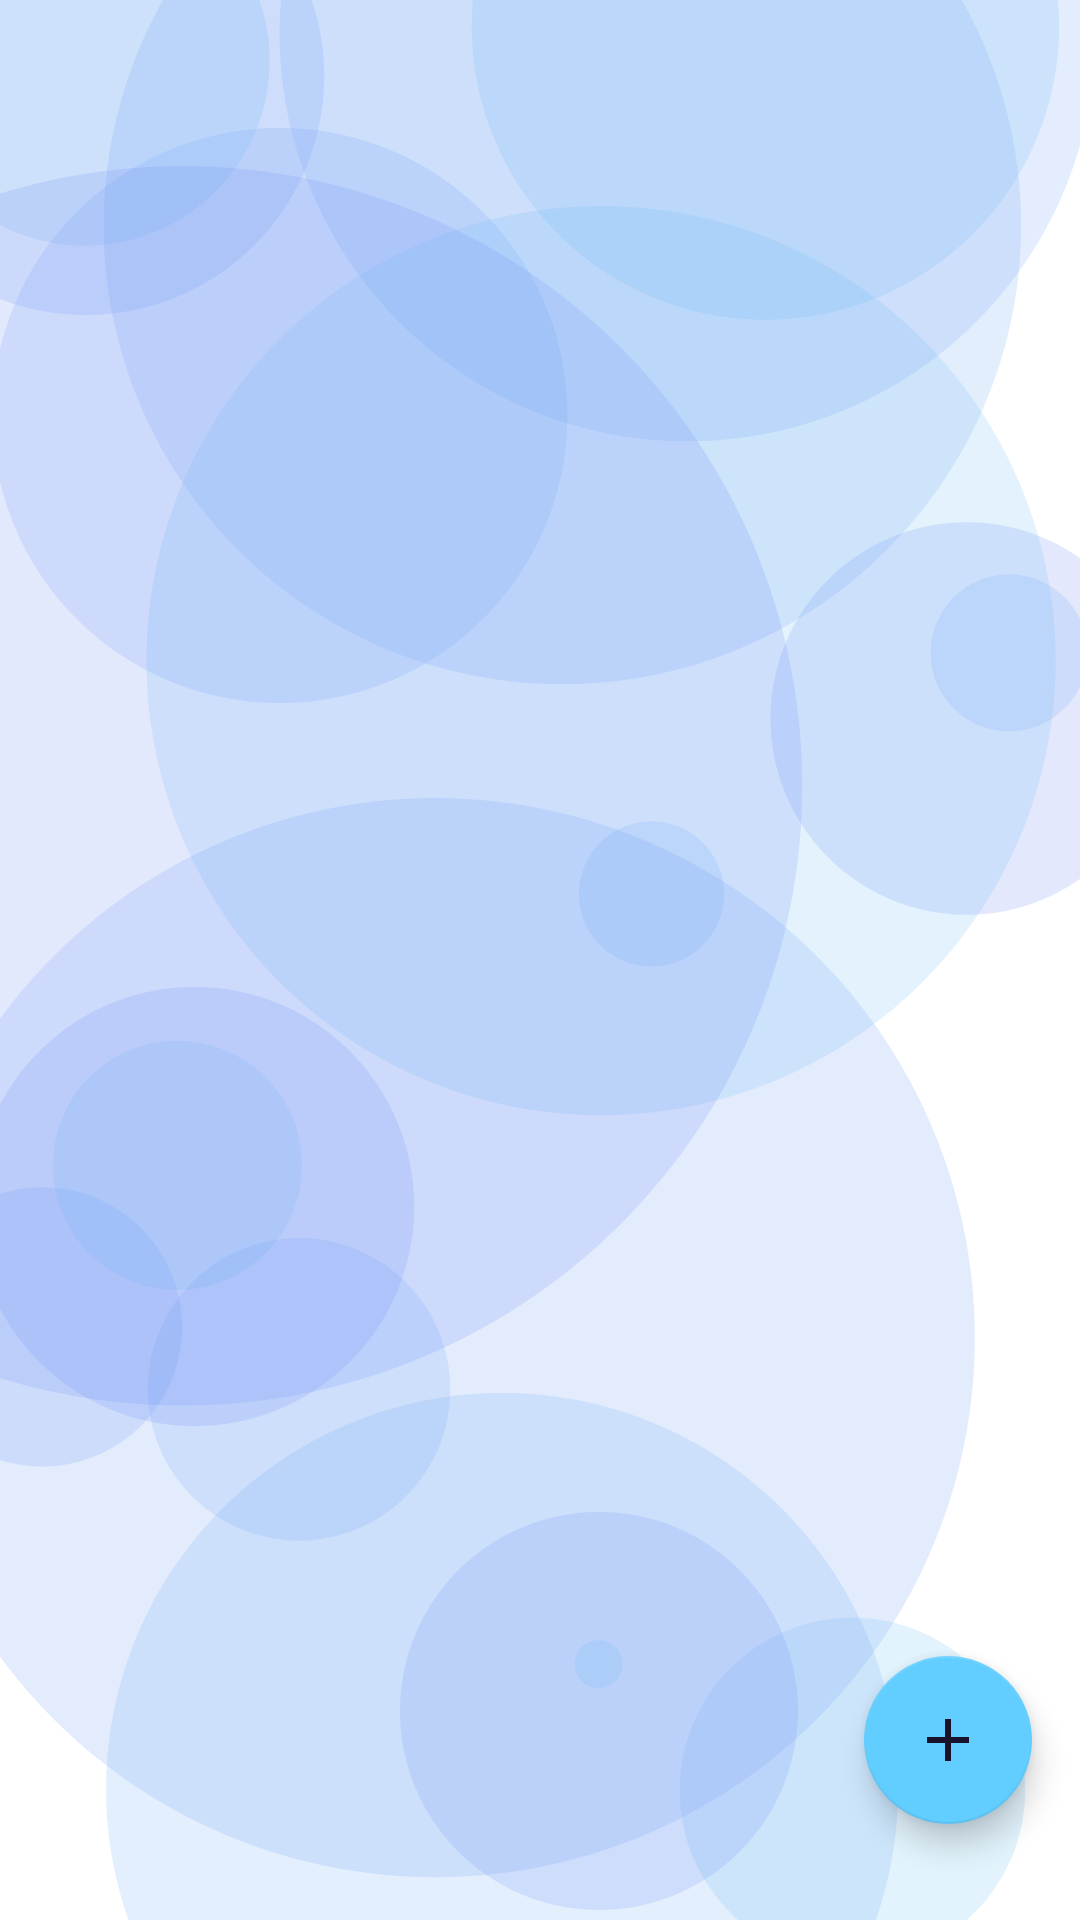

Icon click points for this 1080*1920 phone screenshot, format (x,y):
add: (948,1740)
